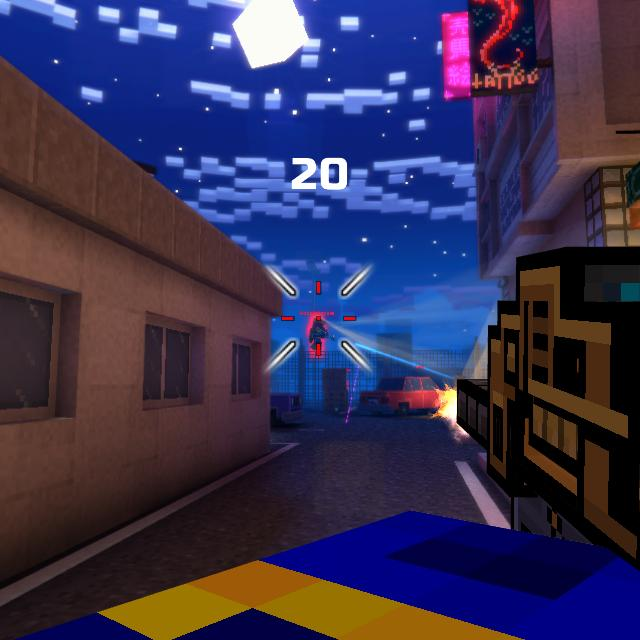Enemy: (312, 315, 327, 352)
